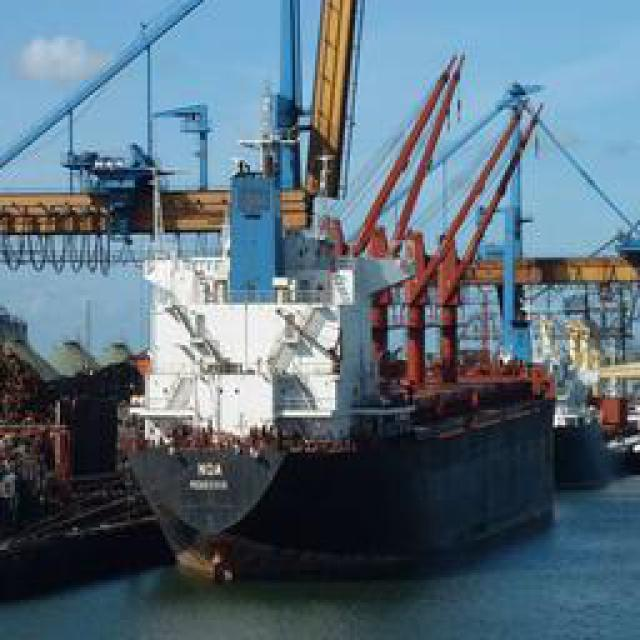Ship: (121, 11, 561, 571)
